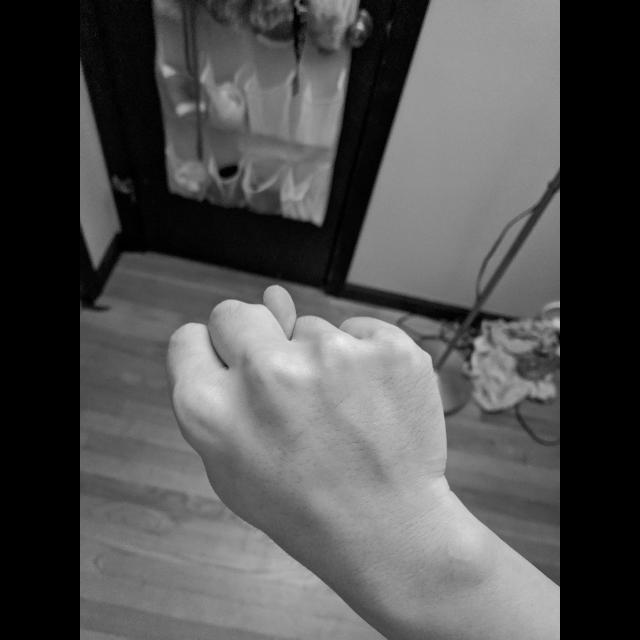N: (162, 278, 452, 552)
